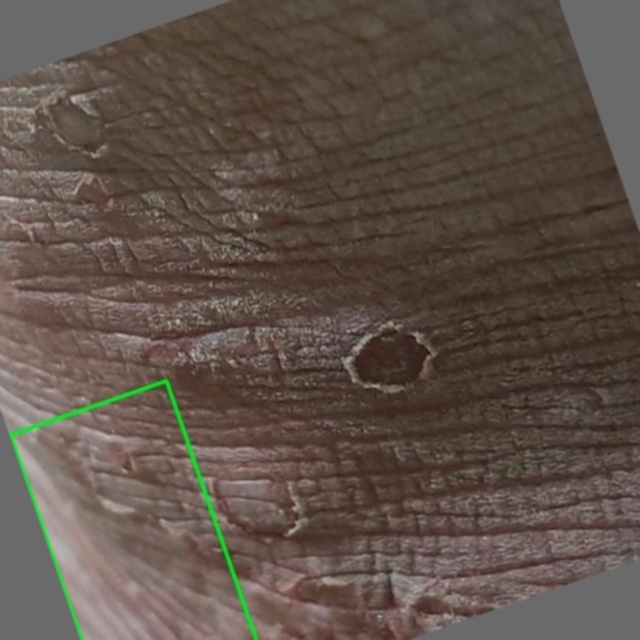Contact Dermatitis: (10, 380, 256, 639)
